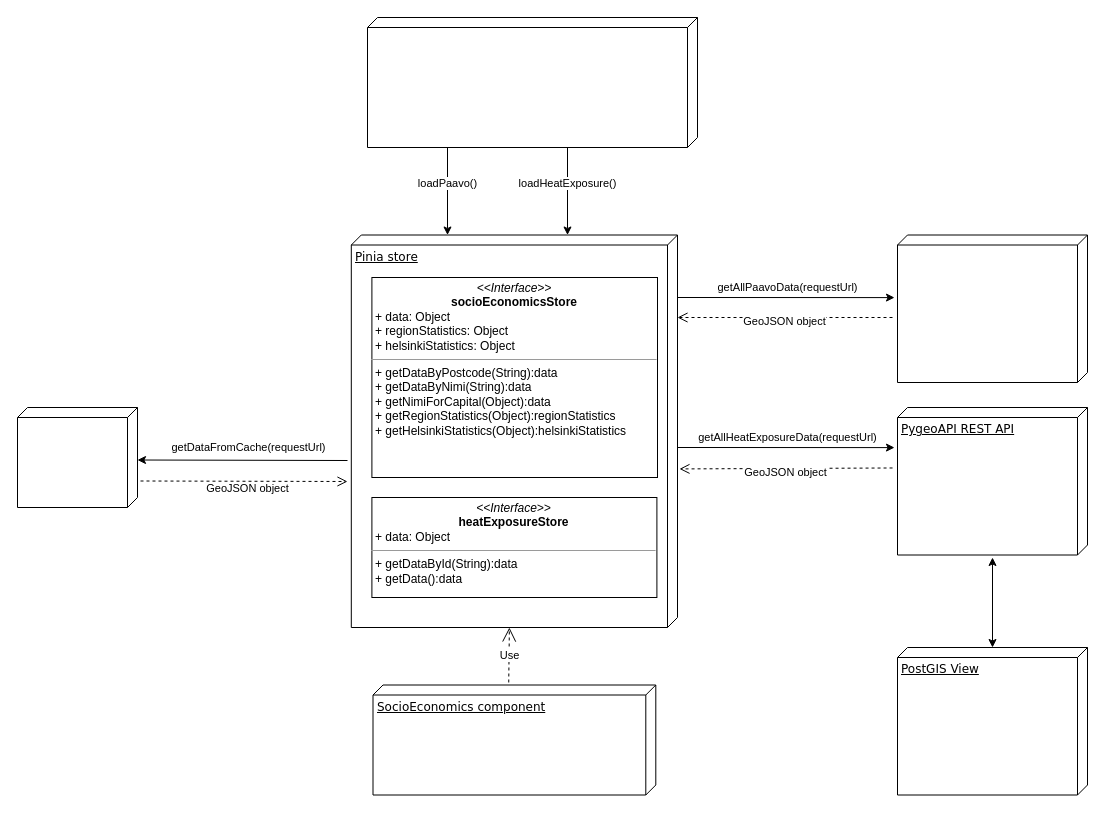
This 1105x813 diagram has some shape labels left out. Here are the shapes that lost their labels. From the top down, the box of each, then its label:
(366, 16, 698, 148): CesiumViewer component
(896, 234, 1088, 382): HSY WFS
(16, 406, 138, 508): Redis cache
